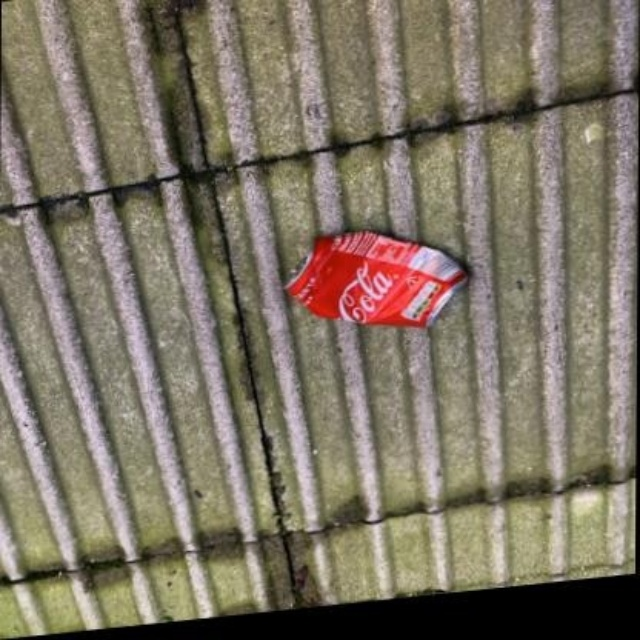trash: (286, 231, 466, 326)
